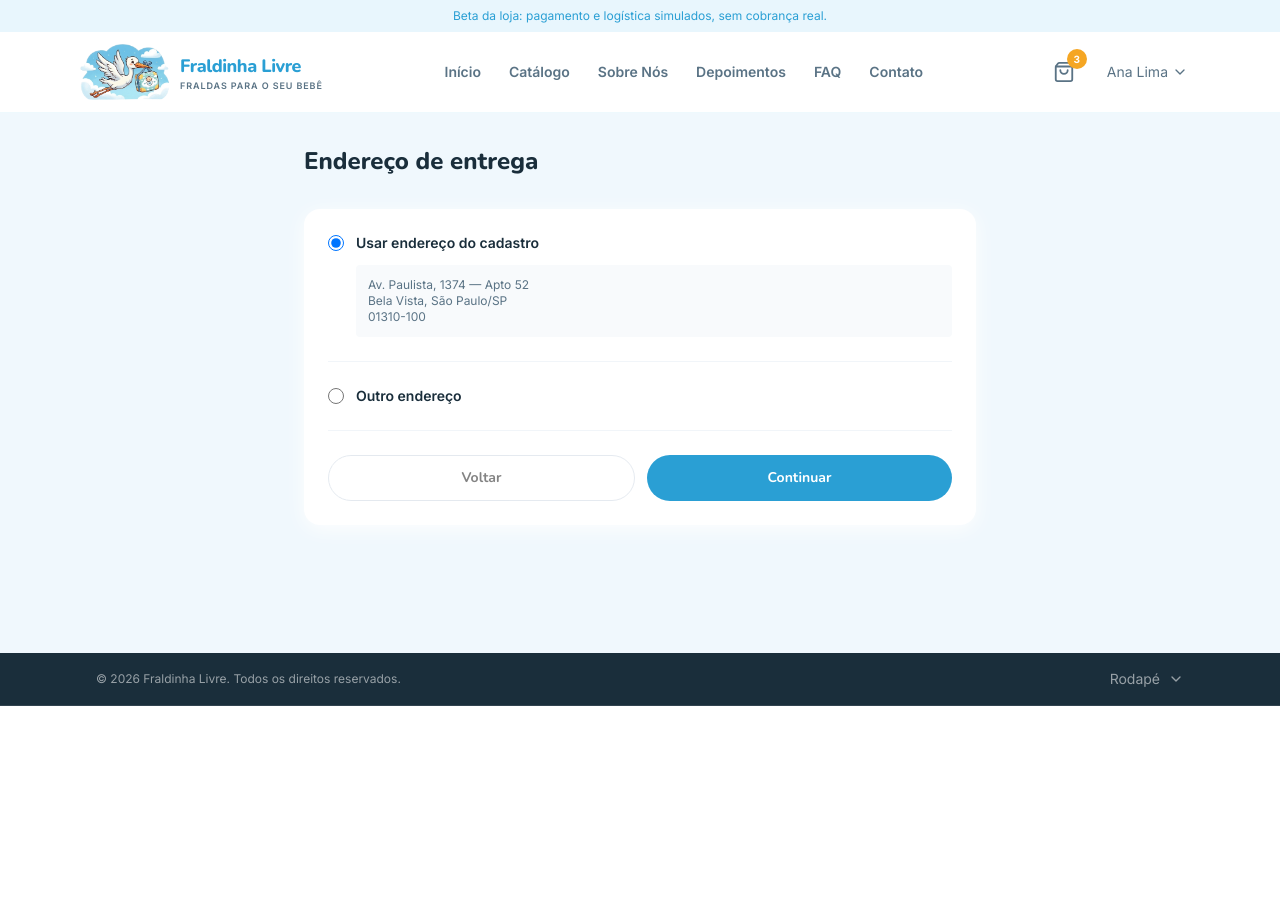
it: CheckoutPage › Passo: Revisao › should display items grouped by supplier
Note: Navigate to revisao
Click the button "Continuar" at (800, 478), box [647, 455, 952, 501]
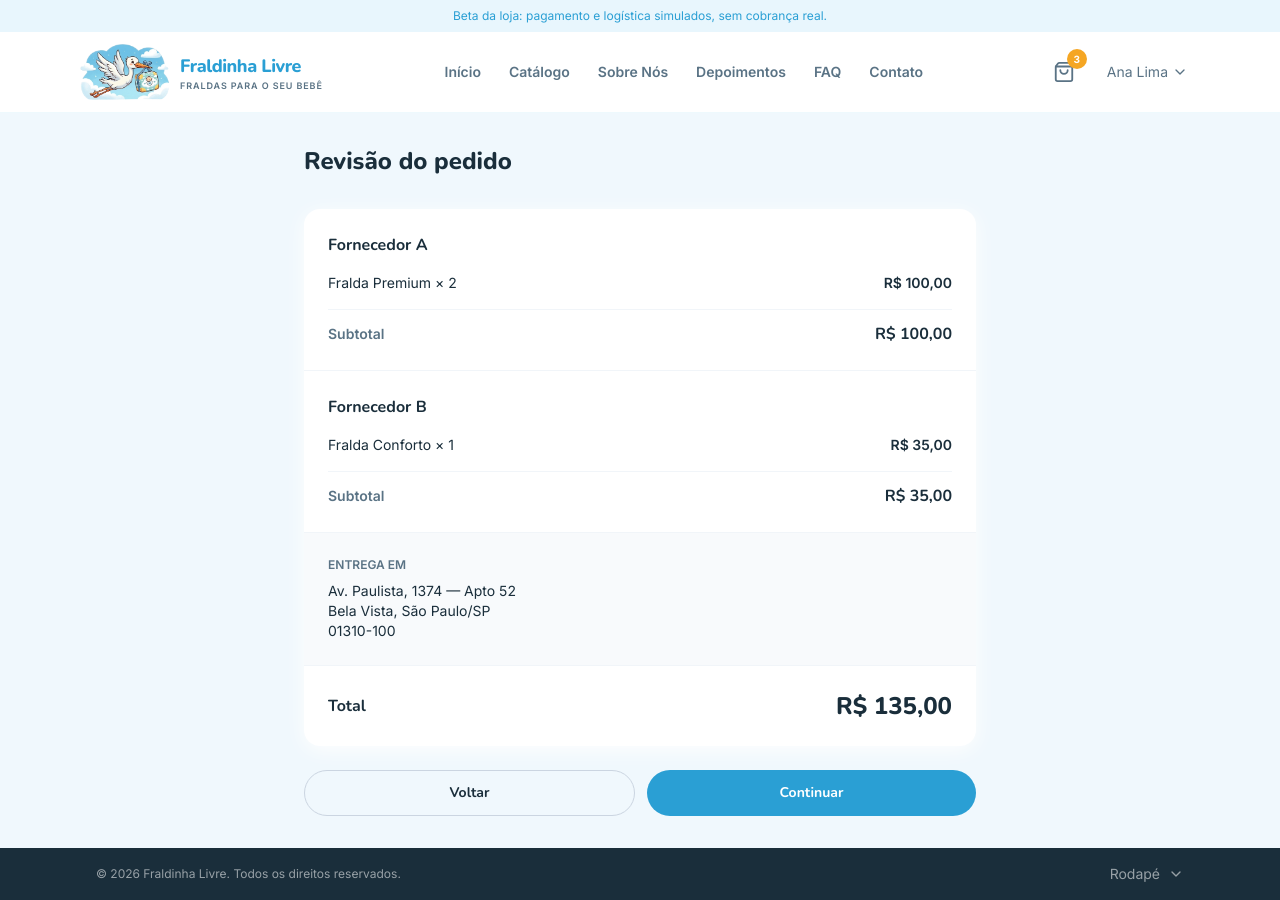
Check: the heading "Revisão do pedido" is shown, box [304, 145, 512, 177]
Check: the heading "Fornecedor A" is shown, box [328, 234, 428, 256]
Check: the heading "Fornecedor B" is shown, box [328, 396, 427, 418]
